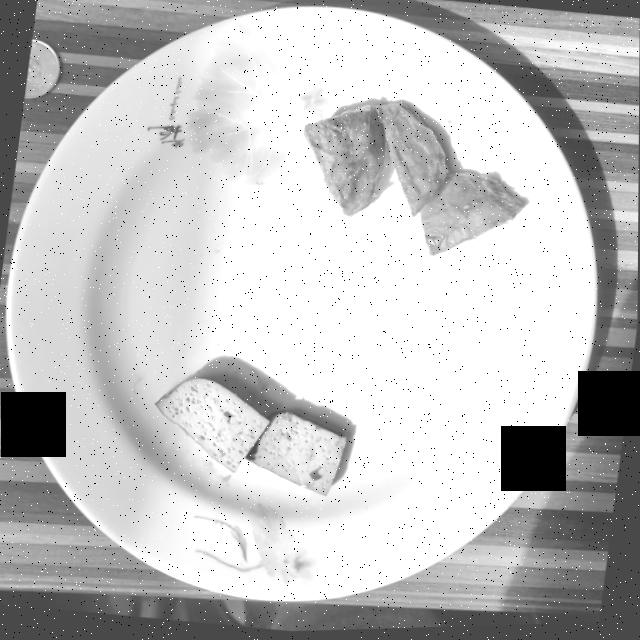coin: (24, 39, 60, 98)
firm tofu: (156, 378, 346, 497)
fried potato: (304, 104, 522, 257)
